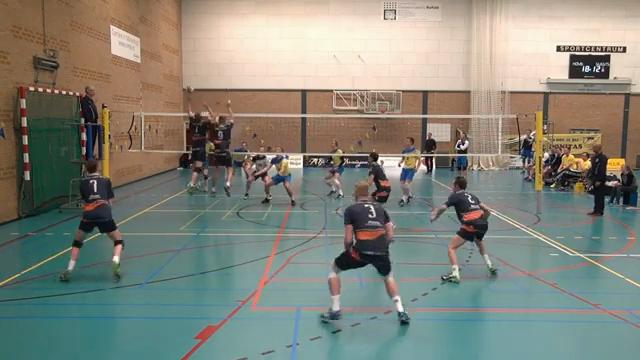Block: (201, 97, 234, 197), (181, 98, 208, 199)
Player: (321, 181, 409, 323), (60, 159, 123, 281), (431, 176, 496, 282), (254, 146, 295, 205), (398, 137, 420, 206), (244, 146, 269, 199), (324, 139, 345, 198), (367, 152, 390, 203), (455, 133, 469, 175), (233, 141, 249, 174)
ball: (186, 84, 193, 93)
